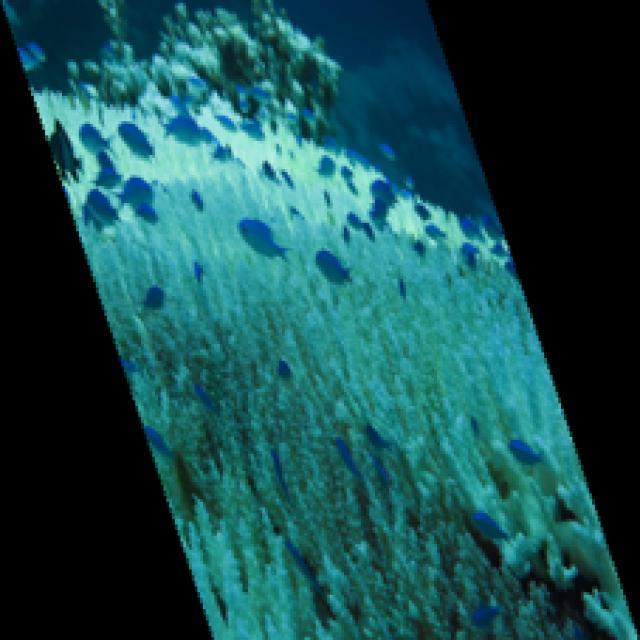Bleached: (29, 90, 640, 640), (105, 316, 615, 640), (168, 494, 337, 640)
